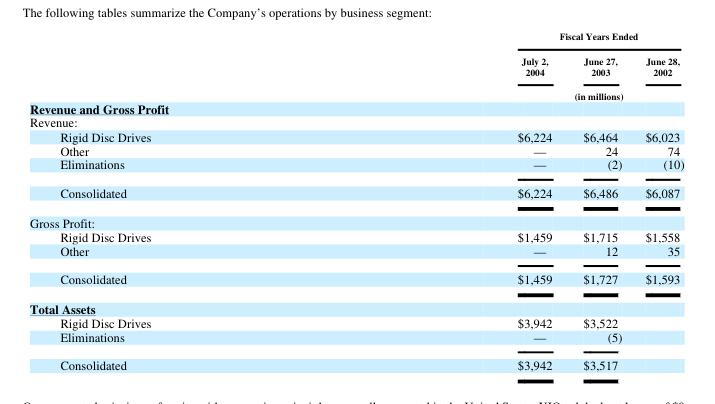table: (29, 29, 683, 372)
table column: (29, 29, 333, 372), (333, 29, 567, 372), (567, 29, 633, 372), (633, 29, 683, 372)
table column header: (29, 29, 683, 100)
table projected row header: (29, 206, 683, 228), (29, 293, 683, 315), (29, 100, 683, 115), (29, 115, 683, 128)
table row: (29, 48, 683, 83), (29, 263, 683, 293), (29, 177, 683, 206), (29, 206, 683, 228), (29, 293, 683, 315), (29, 350, 683, 372), (29, 156, 683, 177), (29, 242, 683, 263), (29, 329, 683, 350), (29, 29, 683, 48), (29, 83, 683, 100), (29, 100, 683, 115), (29, 128, 683, 142), (29, 142, 683, 156), (29, 228, 683, 242), (29, 315, 683, 329), (29, 115, 683, 128)
table spanning cell: (333, 29, 683, 48), (333, 83, 683, 100)
